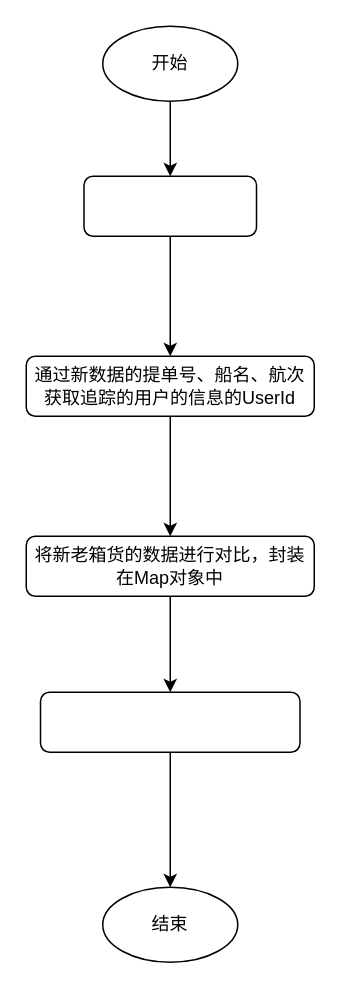
Some shapes in this 341 by 989 pixel diagram are drawn without their labels. Each missing label, with the centre of its shape:
"具体微信推送逻辑" goes at [169,721].
"监听Mq获取箱货消息" goes at [169,205].
